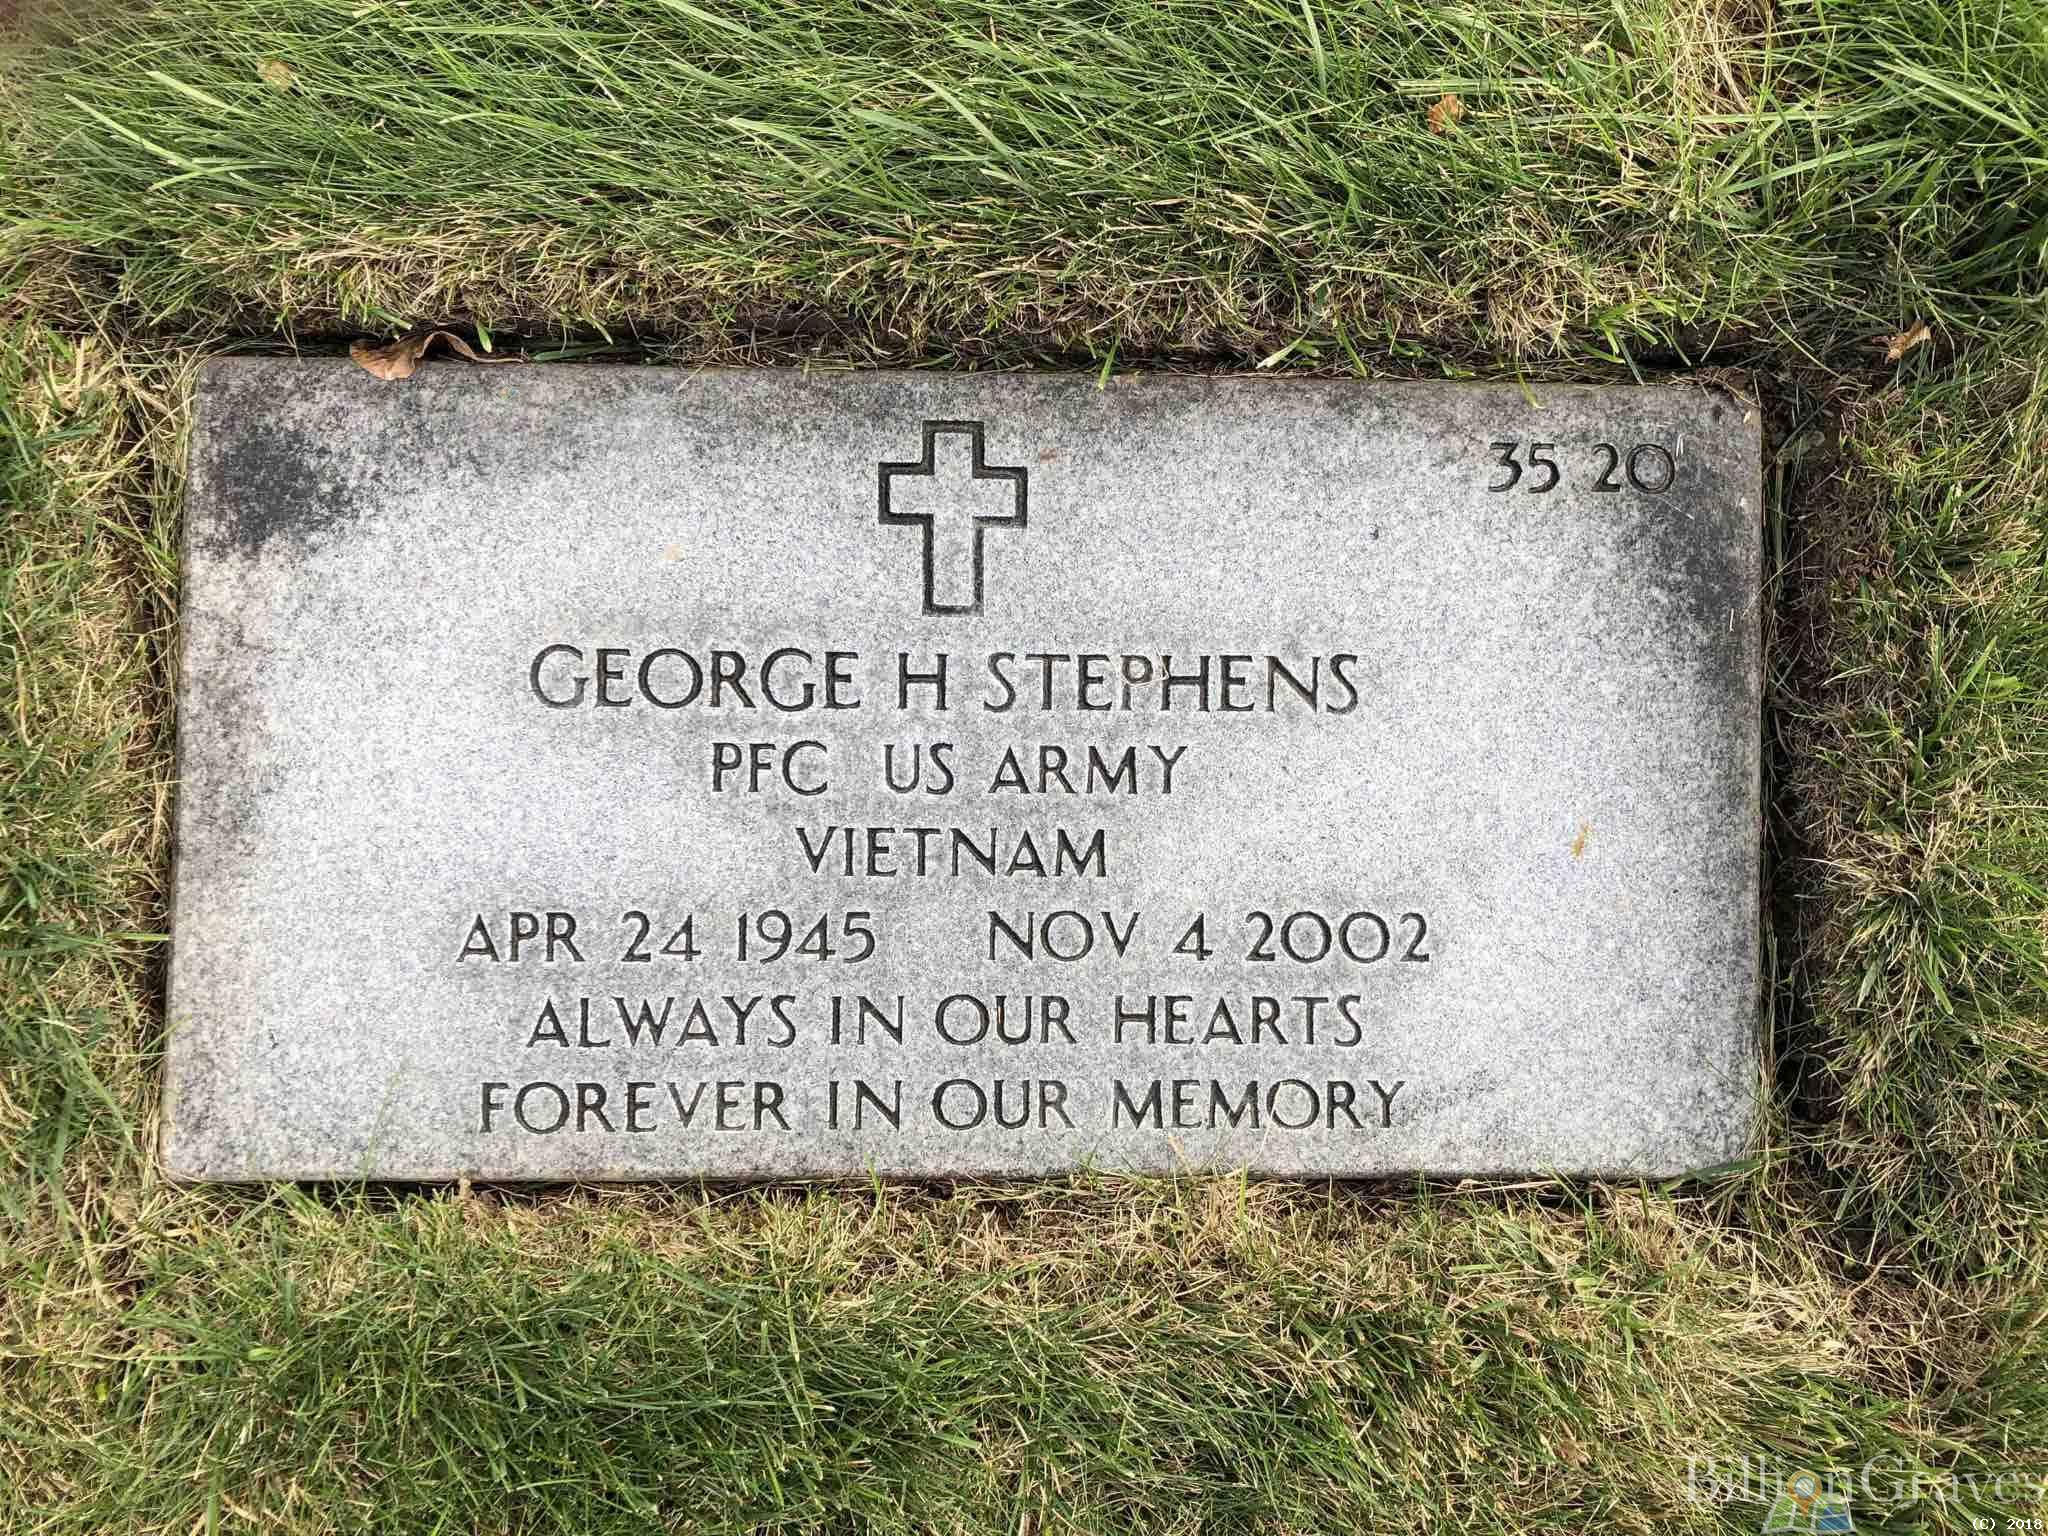flat: (132, 298, 1816, 1241)
